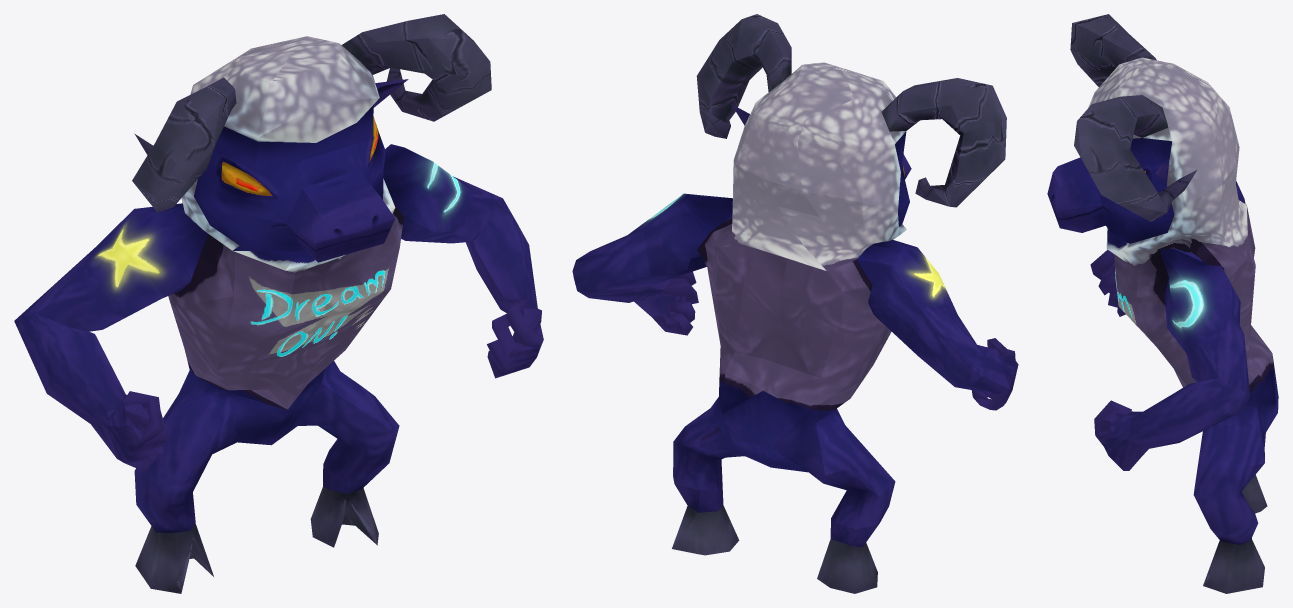
File: Charger_2.glb
3 renders of one model, left to right at view 1: azimuth 30°, elevation 25°; view 2: azimuth 150°, elevation 25°; view 3: azimuth 270°, elevation 25°, orthographic. The views are drawn at different scales.
Visible parts, largest first — view 1: Charger_2 Model; view 2: Charger_2 Model; view 3: Charger_2 Model.
Boxes of the visible parts, x1,y1,x2,y2 form: Charger_2 Model: [14, 14, 543, 593]; Charger_2 Model: [572, 14, 1018, 593]; Charger_2 Model: [1047, 14, 1278, 593].
Bounding box in the file's own units: 1.65 × 1.83 × 0.792.
1 material, 1 textured.
